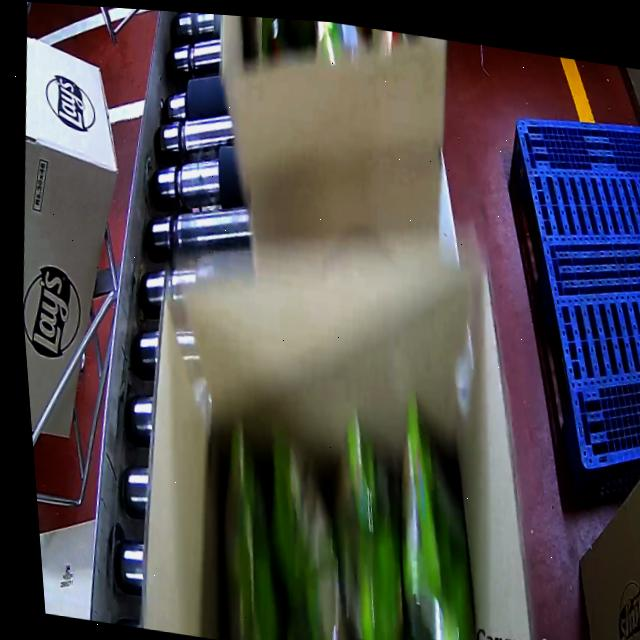YOGURT_HERB: (198, 393, 501, 640)
